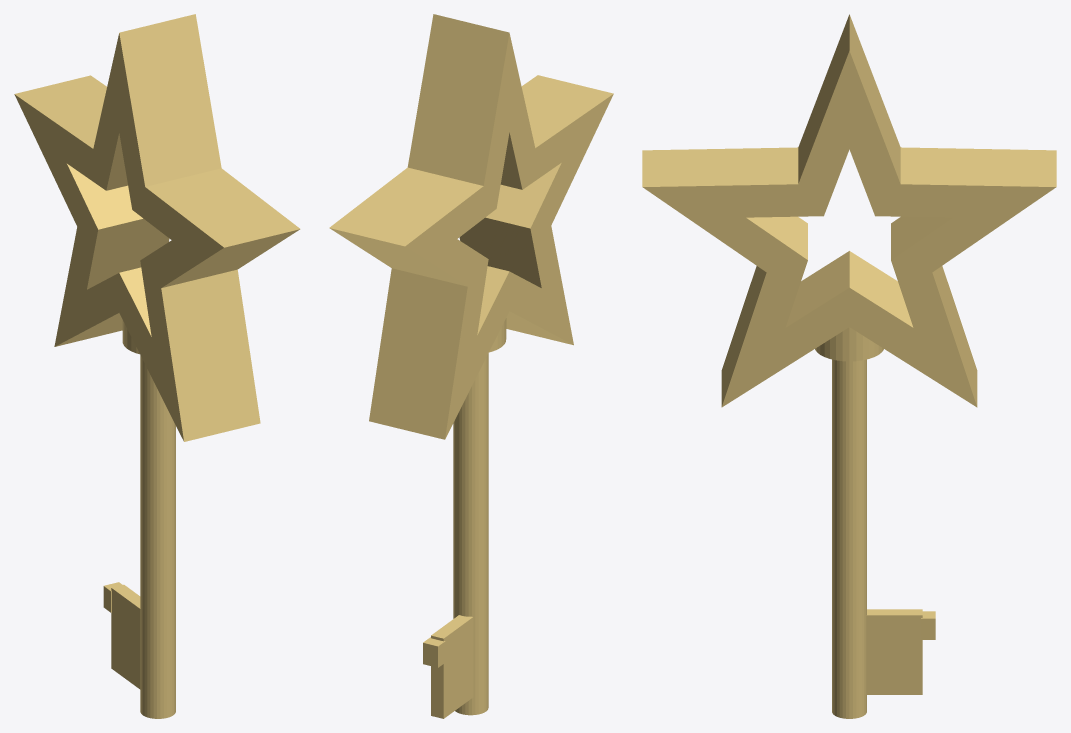
File: Key3.fbx
3 views of the same model, side by side, from view 1: azimuth 30°, elevation 25°; view 2: azimuth 150°, elevation 25°; view 3: azimuth 270°, elevation 25° (orthographic).
Visible parts, largest first — view 1: StarPillar, Key1_Shaft, Key1_Bit; view 2: StarPillar, Key1_Shaft, Key1_Bit, Key1_Notch; view 3: StarPillar, Key1_Shaft, Key1_Bit, Key1_Collar.
Boxes of the visible parts, x1,y1,x2,y2 form: StarPillar: [14, 14, 300, 441]; Key1_Shaft: [140, 355, 175, 718]; Key1_Bit: [111, 584, 140, 689]; StarPillar: [329, 14, 613, 439]; Key1_Shaft: [453, 353, 488, 715]; Key1_Bit: [431, 615, 473, 718]; Key1_Notch: [423, 637, 445, 667]; StarPillar: [642, 14, 1056, 407]; Key1_Shaft: [832, 359, 866, 718]; Key1_Bit: [866, 609, 922, 694]; Key1_Collar: [815, 327, 883, 361].
Bounding box in the file's own units: 29.74 × 256 × 141.
